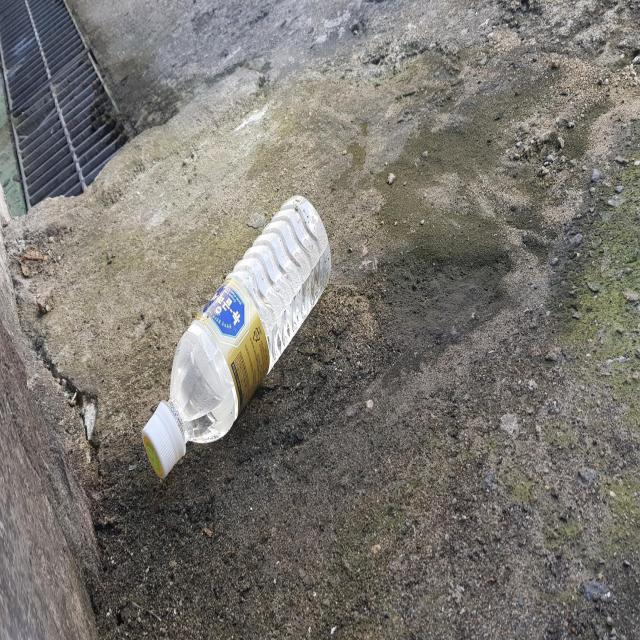plastic: (141, 194, 331, 478)
